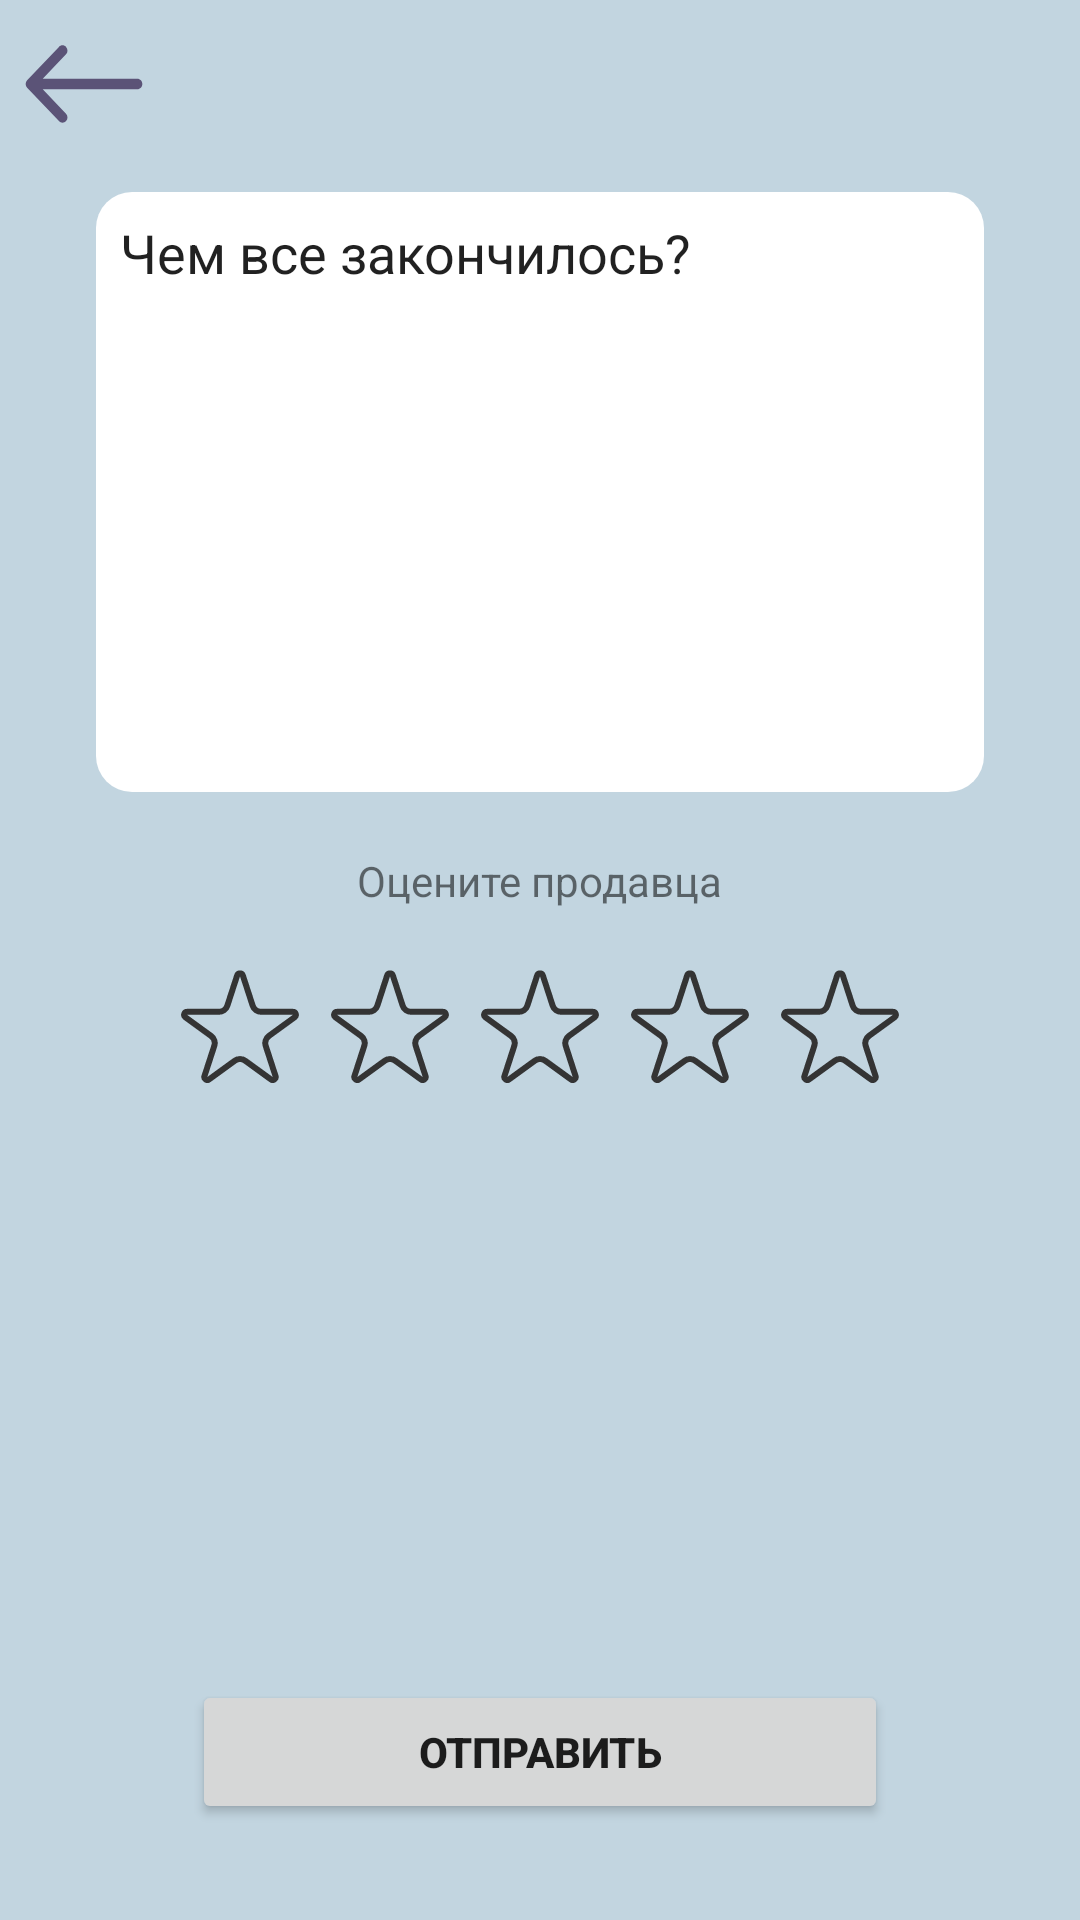

Icons on this 1080 x 1920 Android screen, each with its box as bbox=[x1, y1, x2, y2]:
star stroke: bbox=[181, 970, 299, 1083], bbox=[331, 970, 449, 1083], bbox=[481, 970, 599, 1083], bbox=[631, 970, 749, 1083], bbox=[781, 970, 899, 1083]
